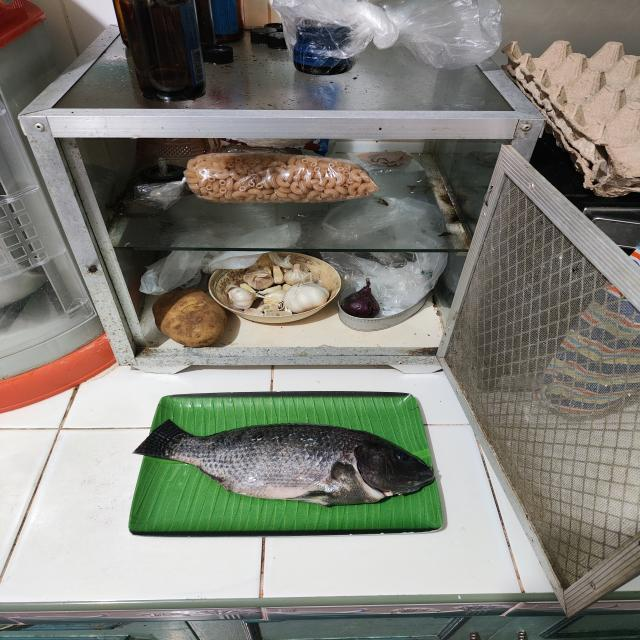fish: (135, 419, 434, 508)
garlic: (228, 263, 331, 314)
onion: (343, 284, 380, 318)
potato: (152, 287, 227, 348)
